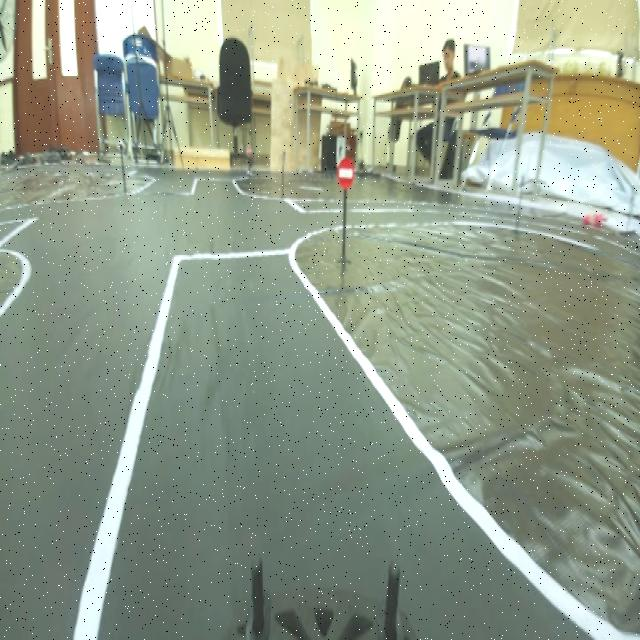no_entry: (332, 152, 360, 197)
